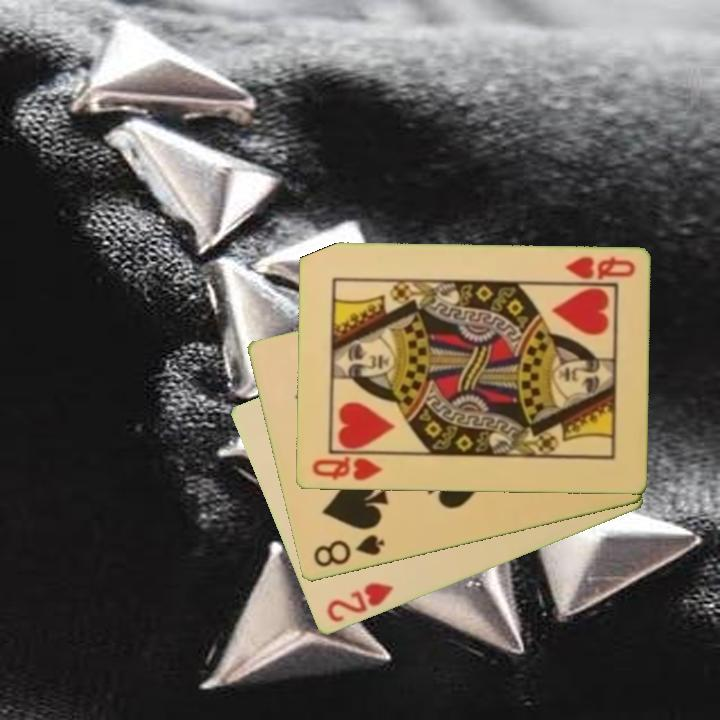2h: (322, 579, 396, 626)
8s: (309, 531, 388, 571)
Qh: (308, 451, 389, 484), (561, 253, 637, 284)
